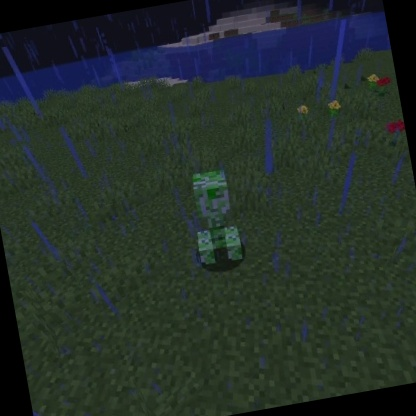creeper: (180, 164, 249, 271)
